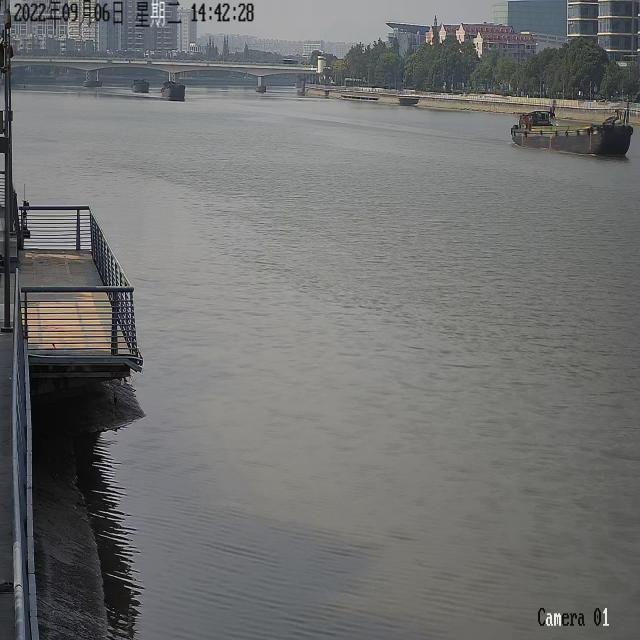ship: (510, 109, 632, 155), (161, 80, 185, 100), (130, 78, 148, 92), (294, 82, 297, 88)
